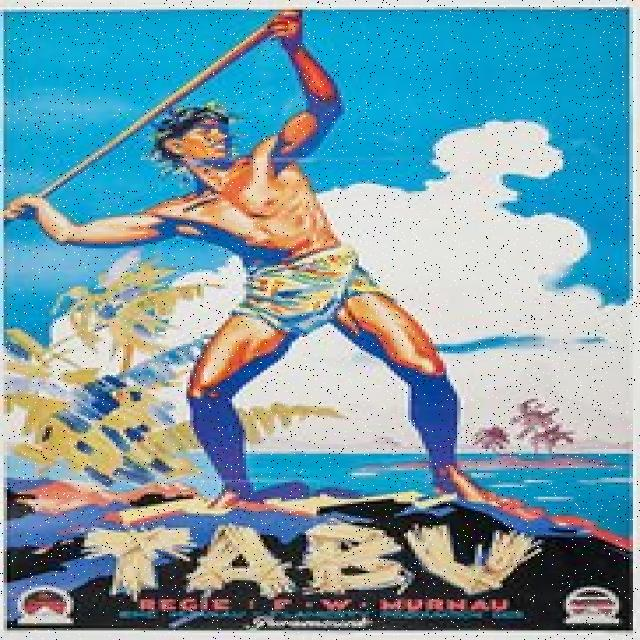movie-judul: (77, 522, 551, 597)
picture: (8, 10, 636, 512)
